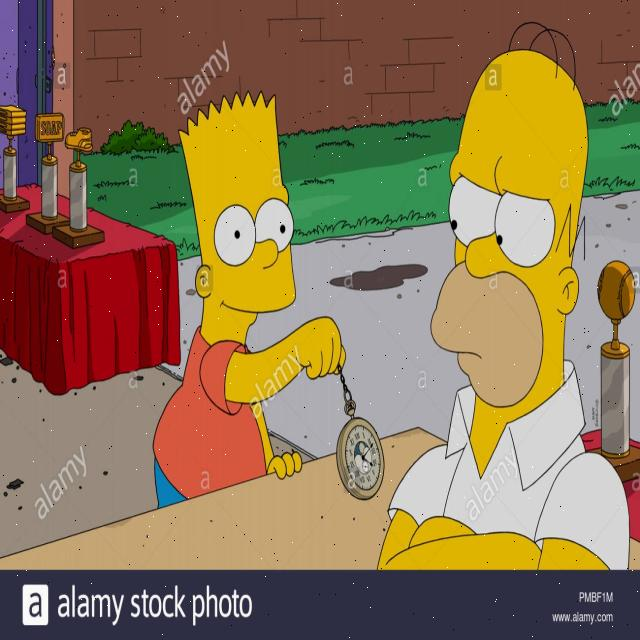Bart Simpson: (177, 88, 298, 350)
Homer Simpson: (428, 19, 592, 462)
